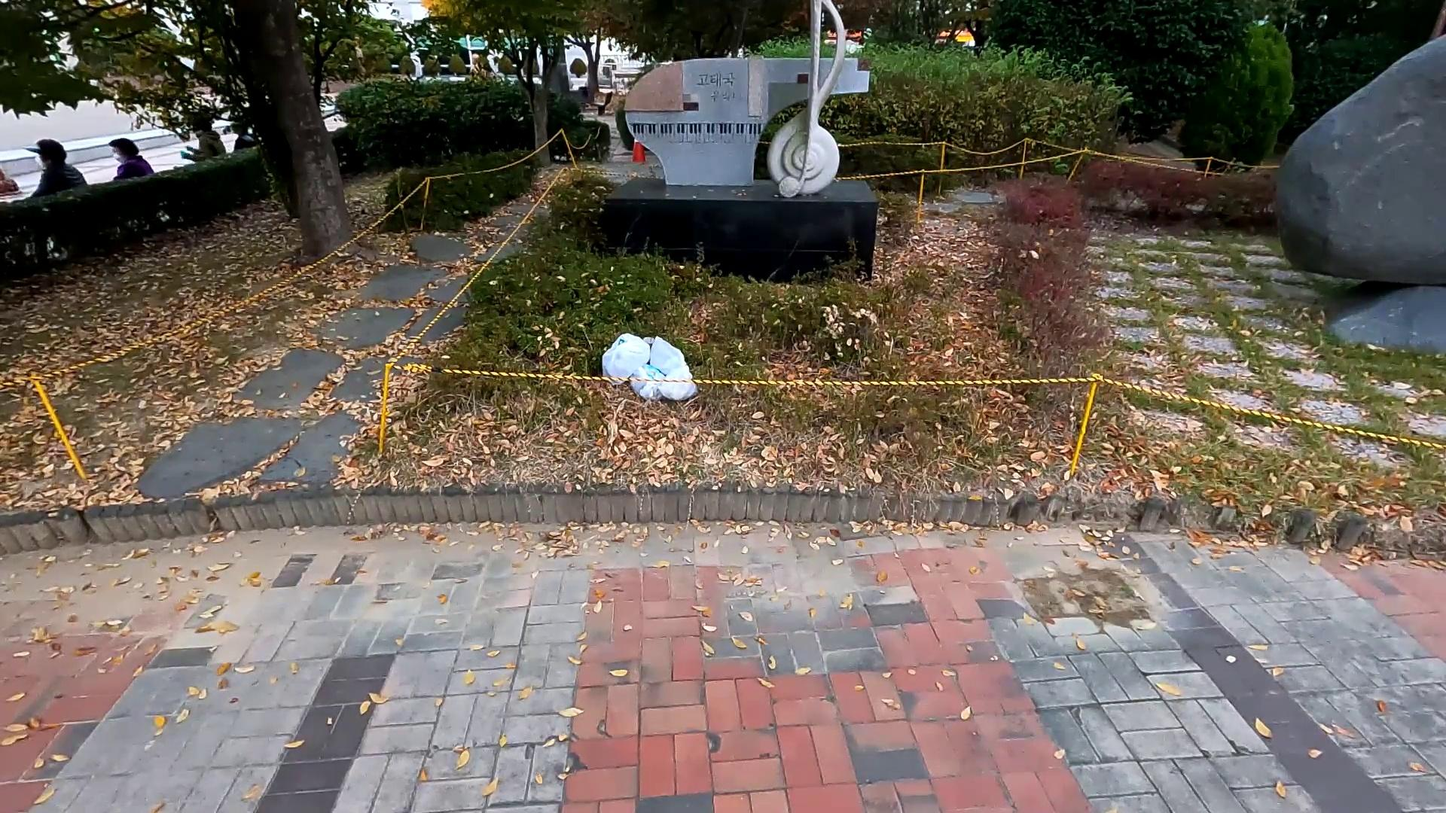person: (28, 138, 85, 235), (107, 136, 157, 211)
trash: (600, 332, 650, 387), (641, 334, 689, 377), (630, 361, 668, 403), (656, 365, 698, 400)
